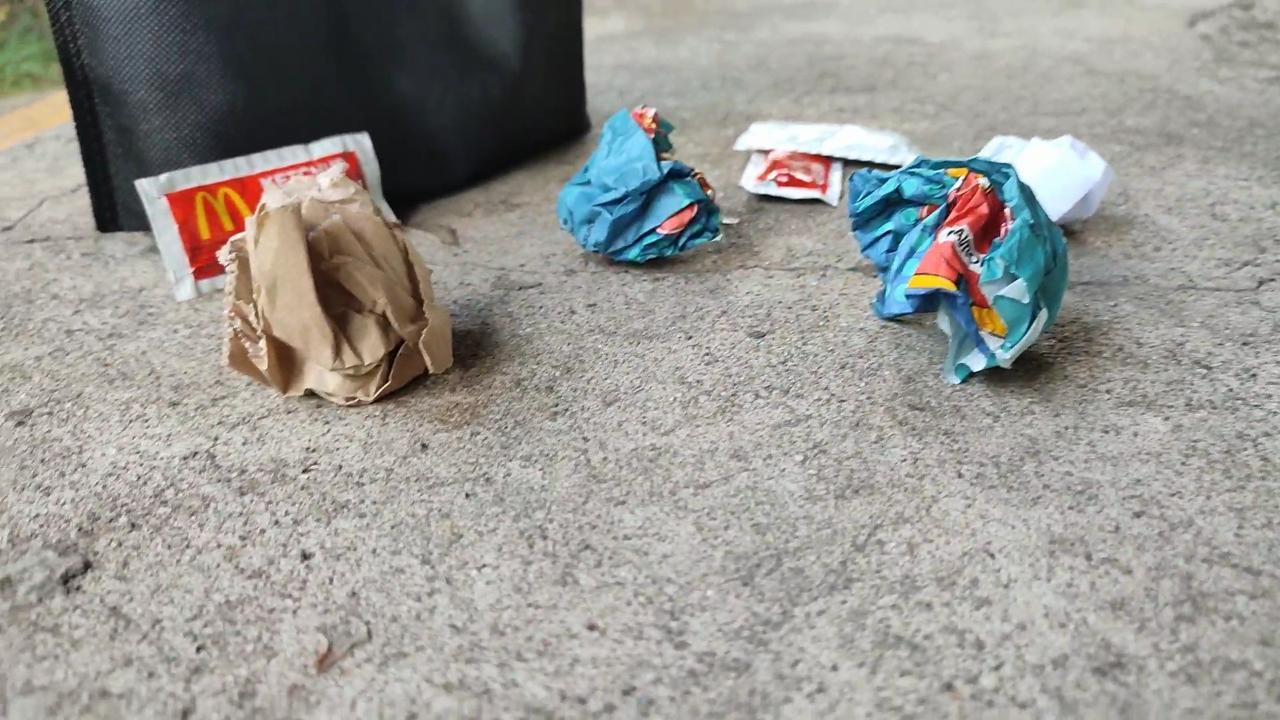Paper: (182, 174, 462, 414), (837, 140, 1067, 390), (544, 92, 746, 282), (971, 110, 1117, 239)
